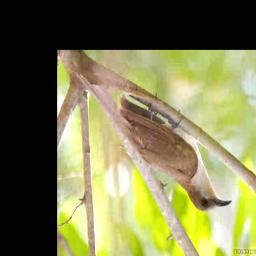Cuckoo: (119, 94, 235, 212)
